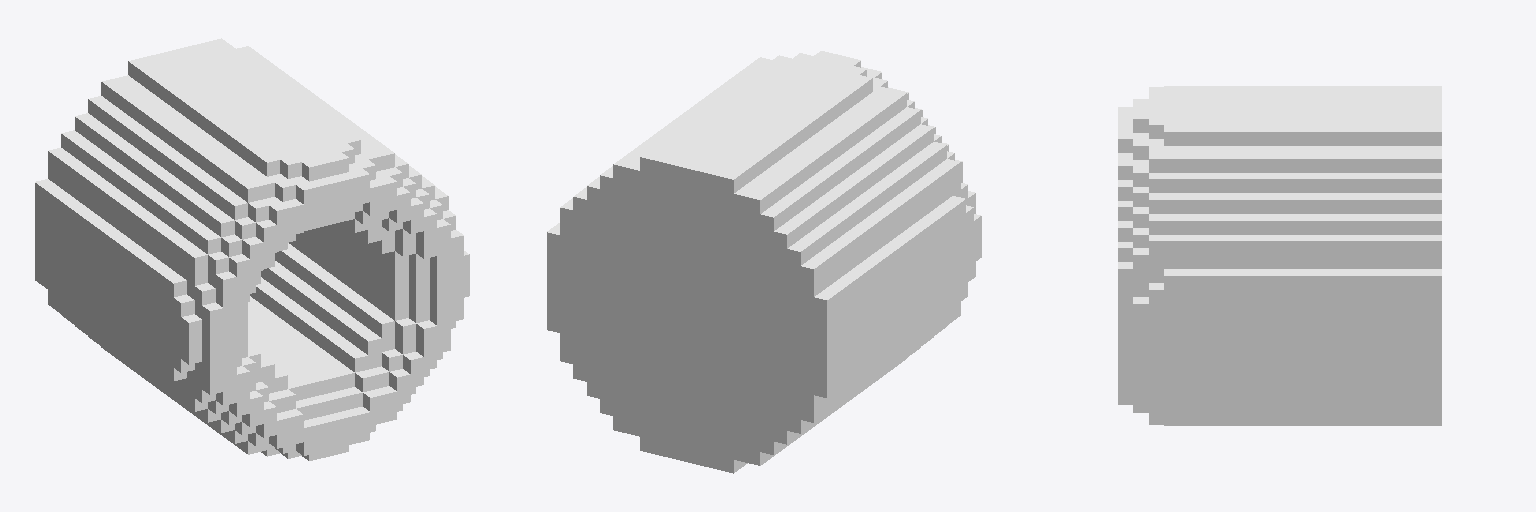
The model's file is Tuyaux.obj.
The picture shows the model from 3 angles: view 1: azimuth 30°, elevation 25°; view 2: azimuth 150°, elevation 25°; view 3: azimuth 270°, elevation 25°; orthographic projection.
Visible parts, largest first — view 1: Tuyaux; view 2: Tuyaux; view 3: Tuyaux.
Part boxes in pixels (x1,y1,x2,y2): Tuyaux: (35, 38, 469, 460); Tuyaux: (547, 51, 981, 473); Tuyaux: (1118, 86, 1441, 425).
Size of the model in its own units: 21 by 21 by 21.